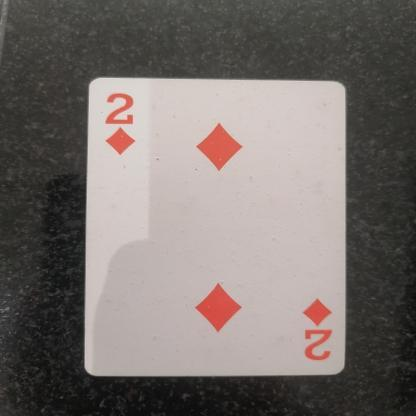2D: (96, 87, 145, 156), (295, 298, 337, 372)
